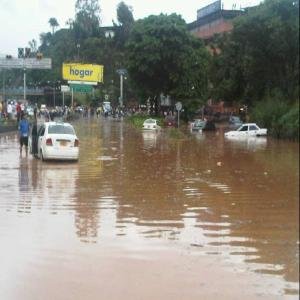Vehicle-registration-plate: (59, 142, 68, 147)
